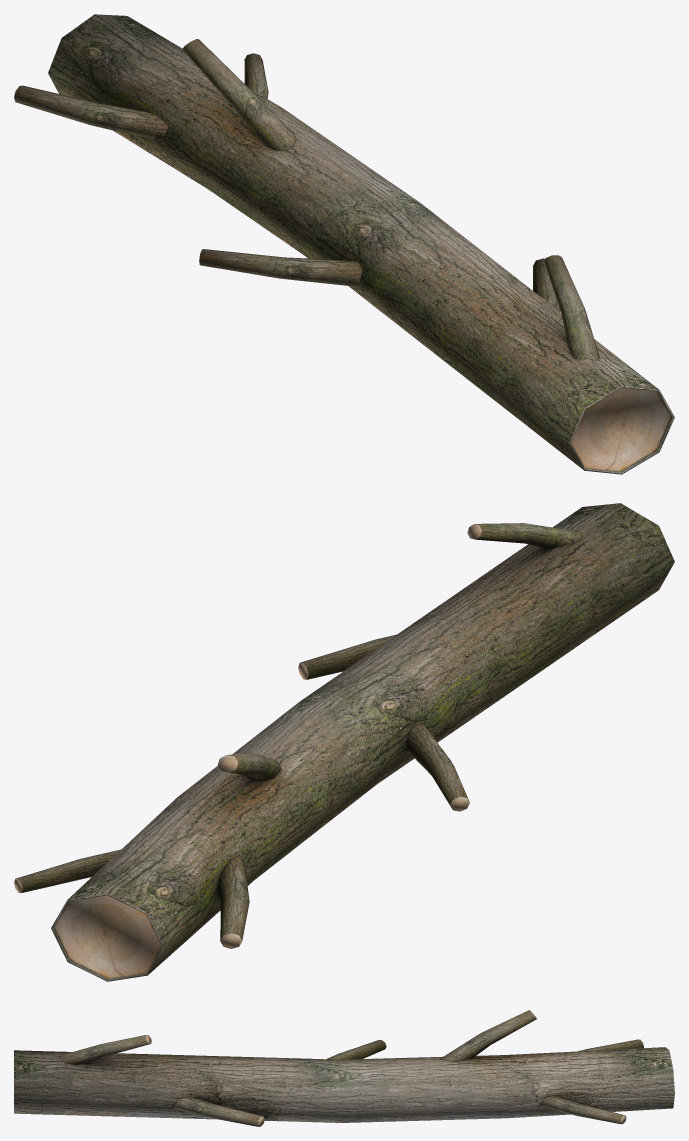
The model's file is tronco.obj.
3 views of the same model, one above another, from view 1: azimuth 30°, elevation 25°; view 2: azimuth 150°, elevation 25°; view 3: azimuth 270°, elevation 25° (orthographic). The views are drawn at different scales.
Visible parts, largest first — view 1: Cube.002_Cube.004; view 2: Cube.002_Cube.004; view 3: Cube.002_Cube.004.
Part boxes in pixels (<box>): Cube.002_Cube.004: <box>14,14,674,474</box>; Cube.002_Cube.004: <box>14,503,674,981</box>; Cube.002_Cube.004: <box>14,1010,674,1126</box>.
Bounding box in the file's own units: 2.94 × 1.62 × 10.1.
